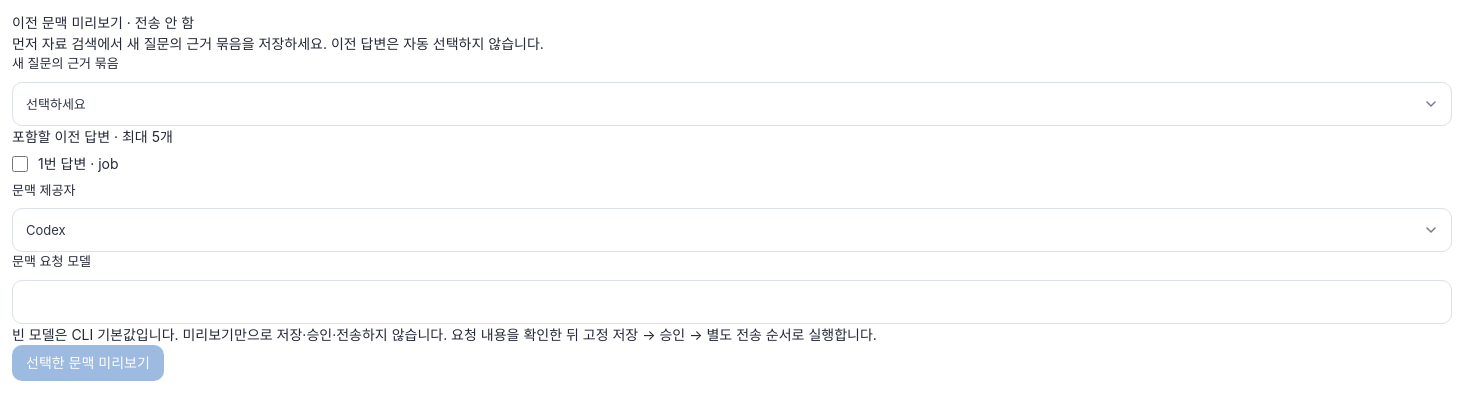
Scenario: 서버 범위 불일치를 차단한다
Select "새 질문 · bundle" in the dropdown labelled "새 질문의 근거 묶음" at (732, 104), box left=12, top=82, right=1452, bottom=126
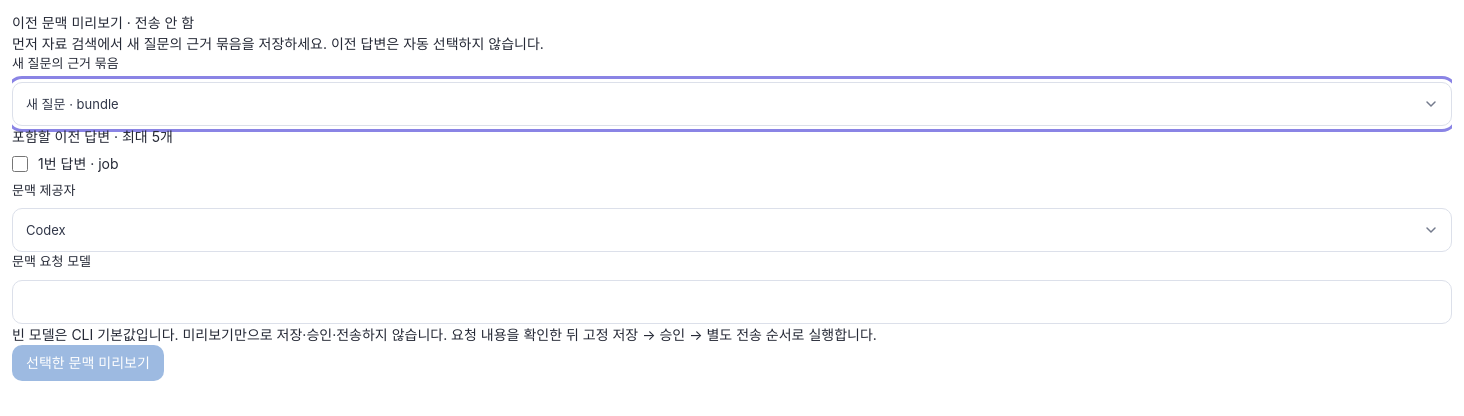
Click the checkbox at (20, 164), box left=12, top=156, right=28, bottom=172
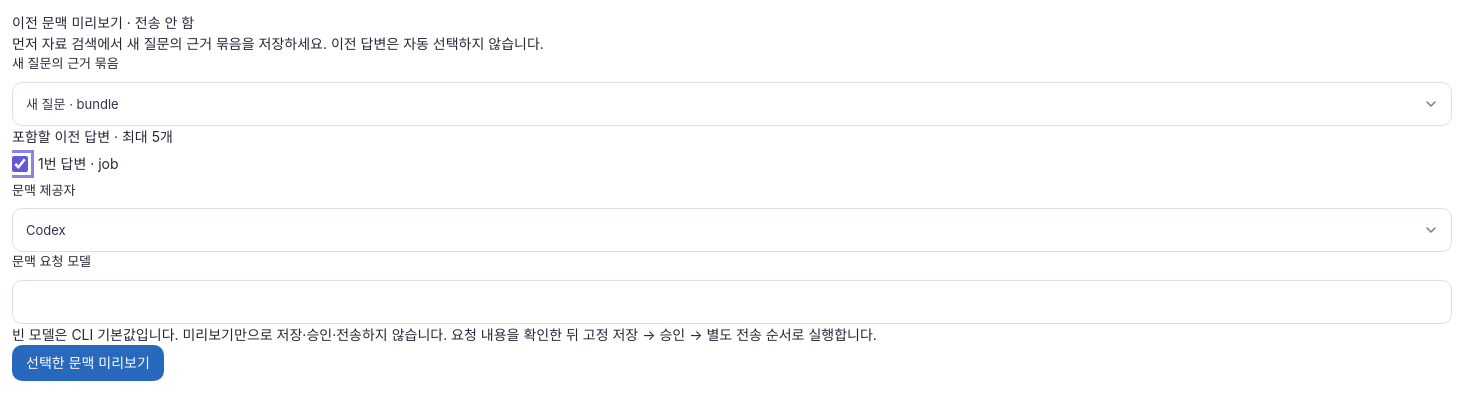
Click the button "선택한 문맥 미리보기" at (88, 363), box left=12, top=345, right=164, bottom=381
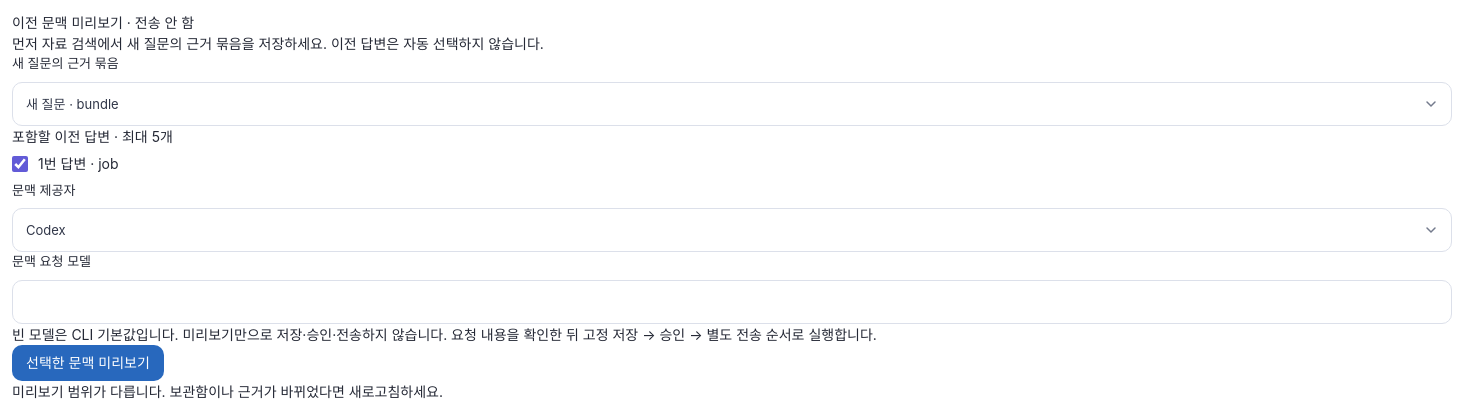
expect the message shows "범위가 다릅니다": met, box left=12, top=383, right=166, bottom=400
